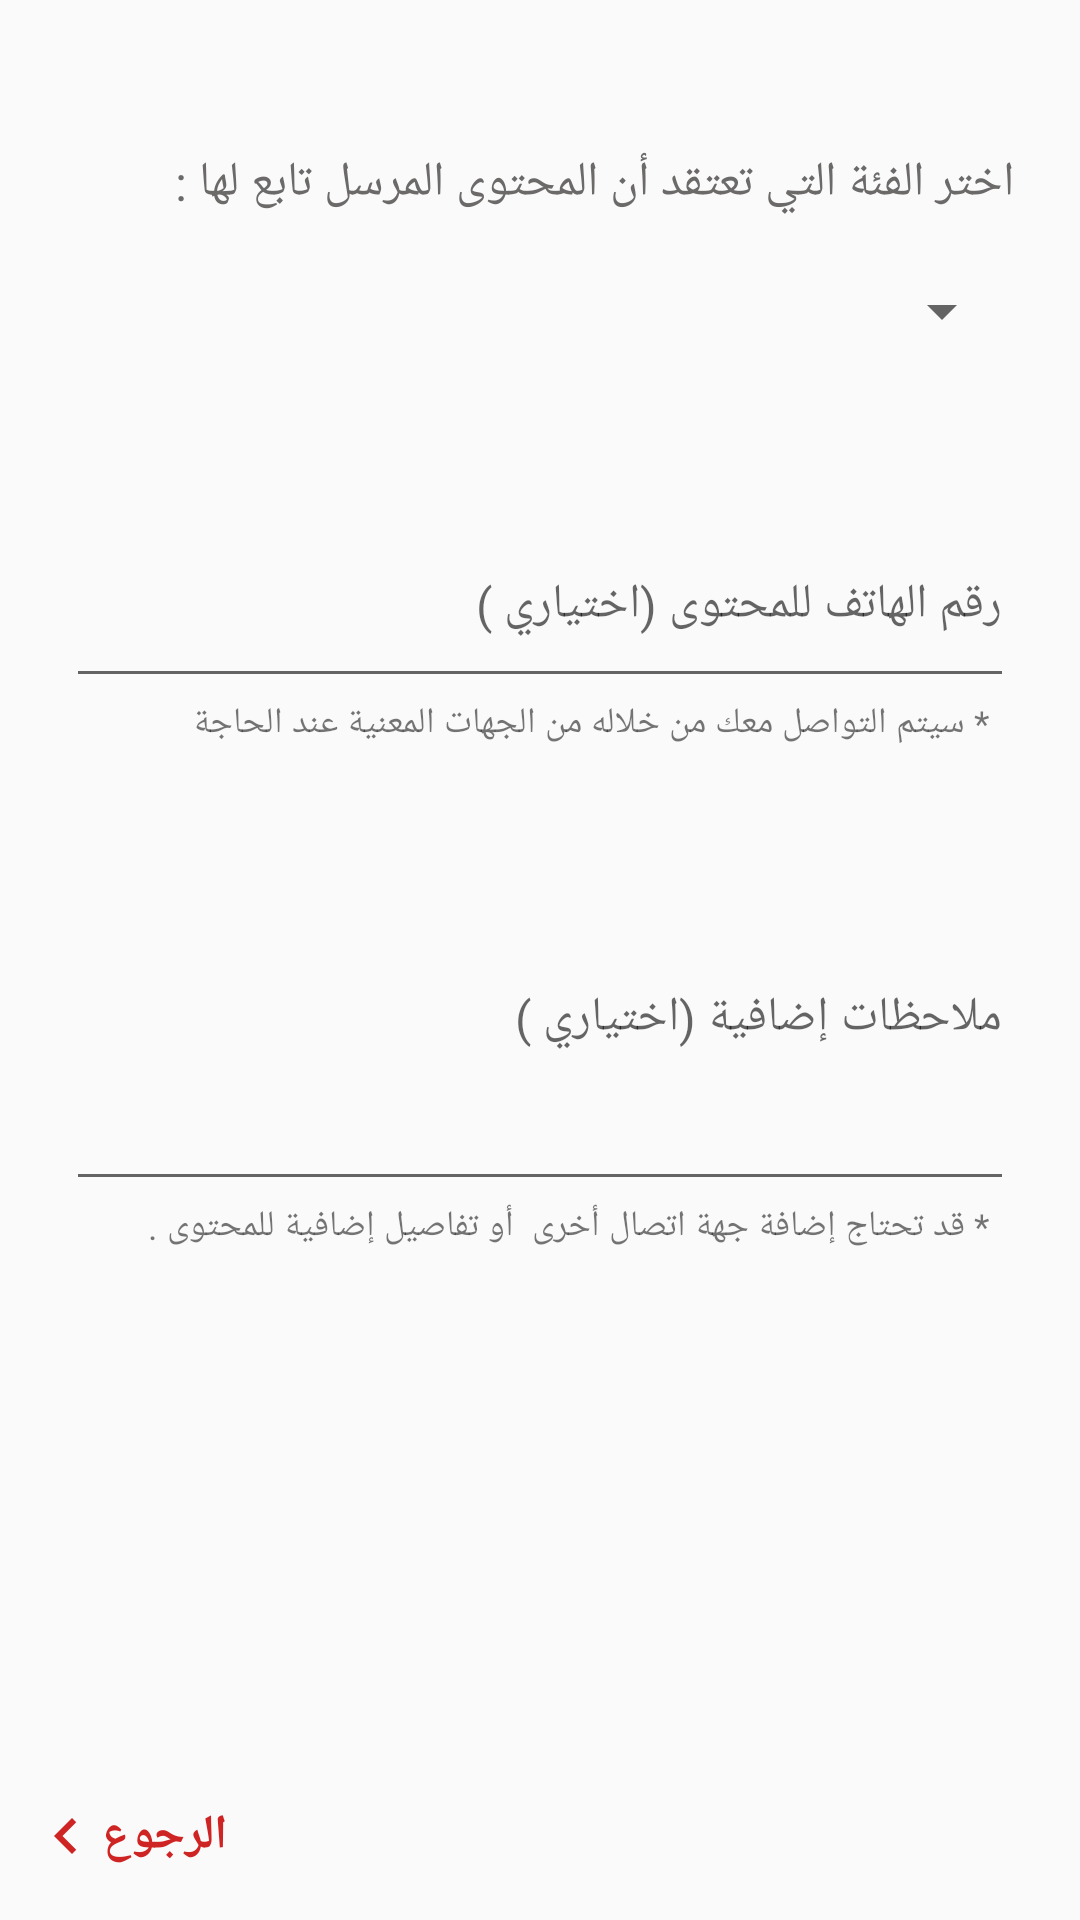

Where icons sit on this 1080w x 1920h app screen, as rect(x1, y1, x2, y2):
left: rect(54, 1818, 76, 1854)
